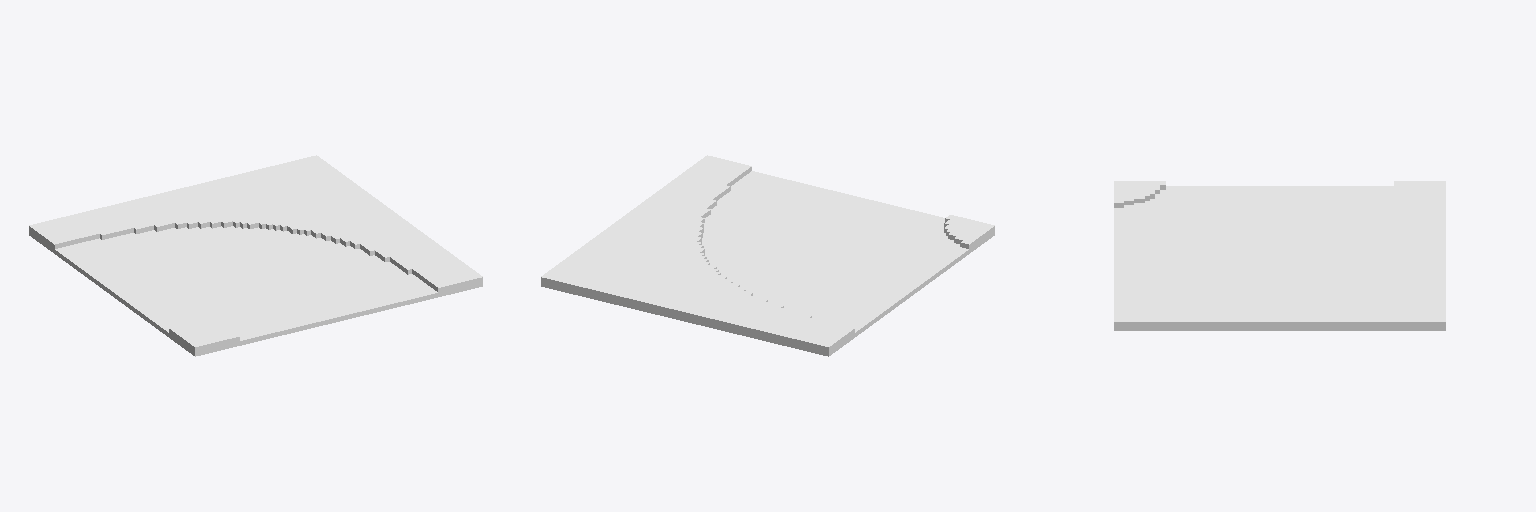
The model's file is RoadTurn.obj.
The picture shows the model from 3 angles: view 1: azimuth 30°, elevation 25°; view 2: azimuth 150°, elevation 25°; view 3: azimuth 270°, elevation 25°; orthographic projection.
Parts seen in each view (by area): view 1: object 1; view 2: object 1; view 3: object 1.
Boxes of the visible parts, x1=… form: object 1: x1=29, y1=155, x2=482, y2=356; object 1: x1=541, y1=155, x2=994, y2=356; object 1: x1=1114, y1=181, x2=1445, y2=330.
Bounding box in the file's own units: 6.4 × 0.2 × 6.4.